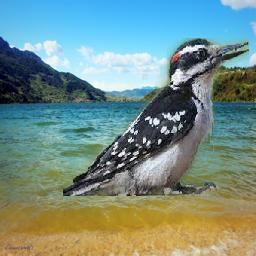Woodpecker: (63, 38, 249, 196)
